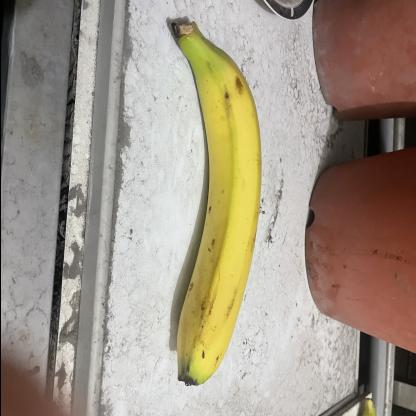banana: (168, 17, 262, 391)
